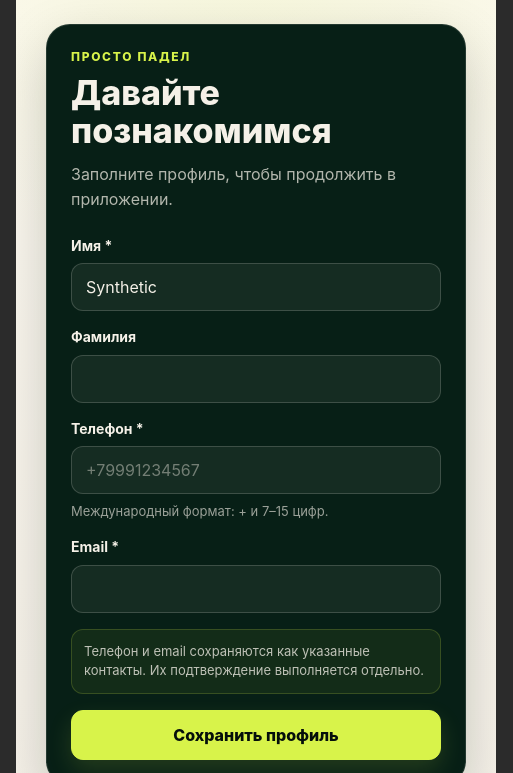
Test: OnboardingProfileGate › builds the first-run PATCH contract with canonical contacts and no persistence or logging
Replace the text in the field labelled "Имя *" with "  Анна  " at {"x": 256, "y": 287}, box 71,263 -> 441,311
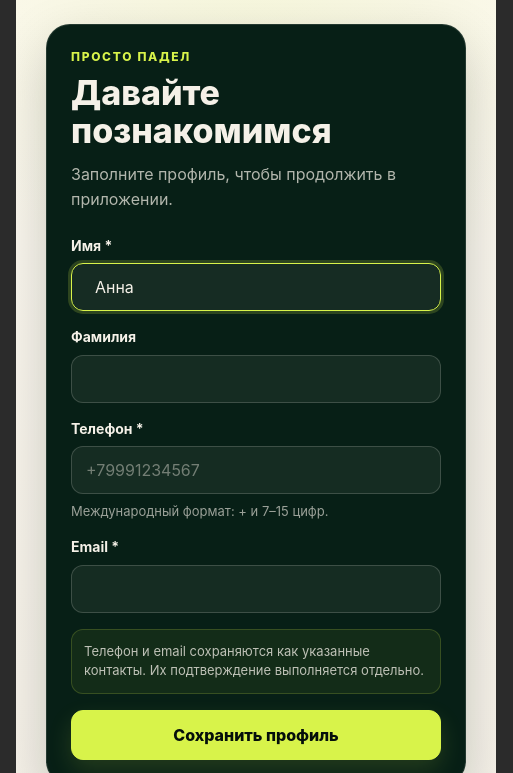
Type "  Петрова  " into the field labelled "Фамилия" at {"x": 256, "y": 379}, box 71,355 -> 441,403
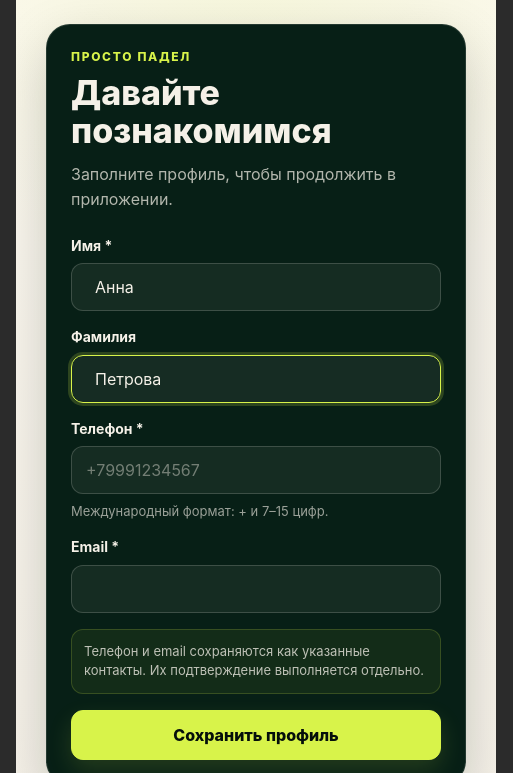
Type "+7 (999) 123-45-67" into the field labelled "Телефон *" at {"x": 256, "y": 470}, box 71,446 -> 441,494
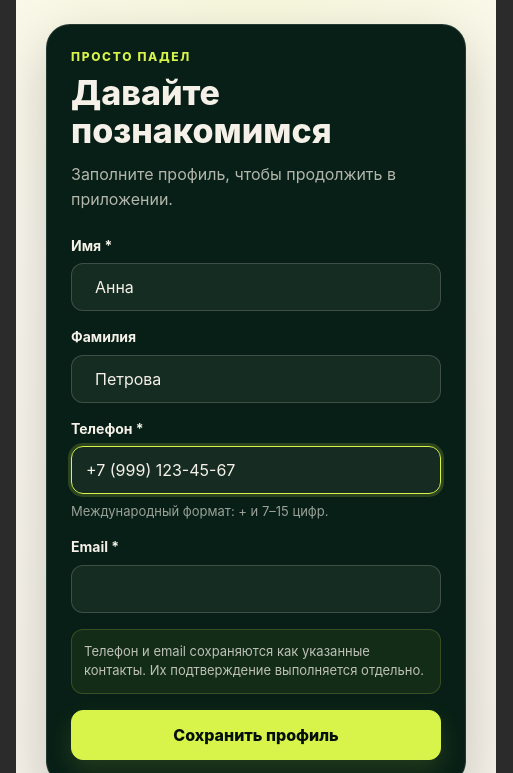
Type "  PLAYER@EXAMPLE.COM  " into the field labelled "Email *" at {"x": 256, "y": 589}, box 71,565 -> 441,613
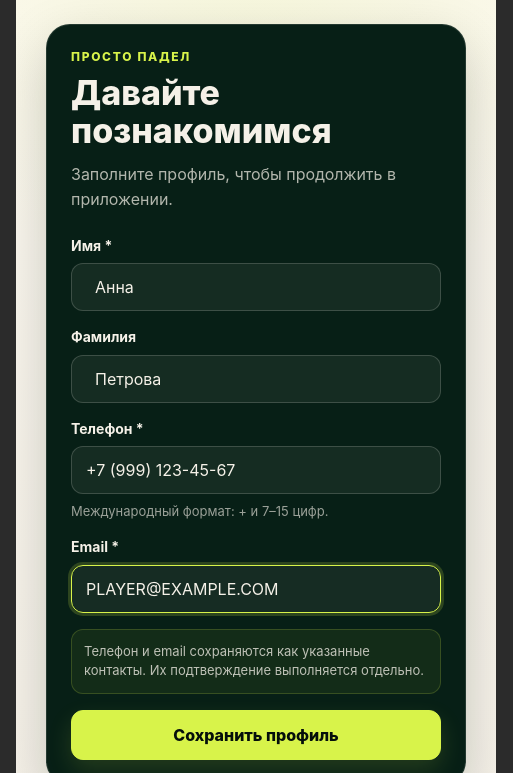
Click the button "Сохранить профиль" at {"x": 256, "y": 735}, box 71,710 -> 441,760
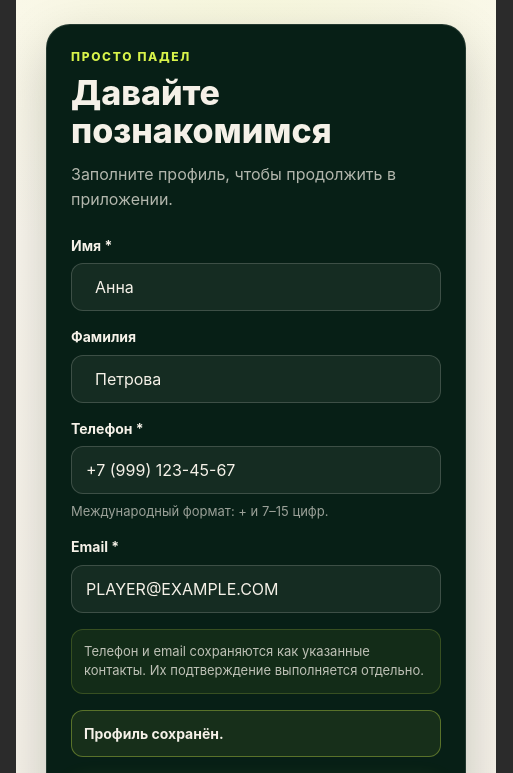
Expected: the message reads "Профиль сохранён.", 84,725 -> 224,742
